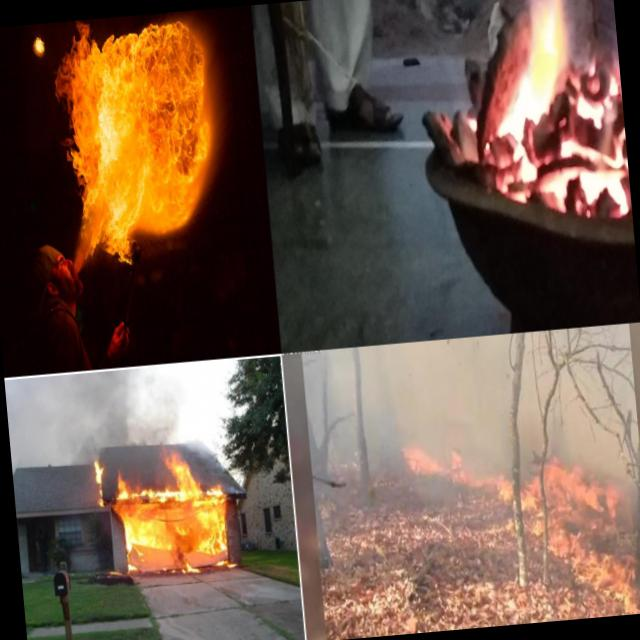fire: (46, 16, 225, 266), (458, 0, 626, 167), (115, 463, 232, 572), (522, 454, 620, 522), (403, 436, 466, 488), (92, 458, 110, 504)
smoke: (4, 368, 180, 455)
